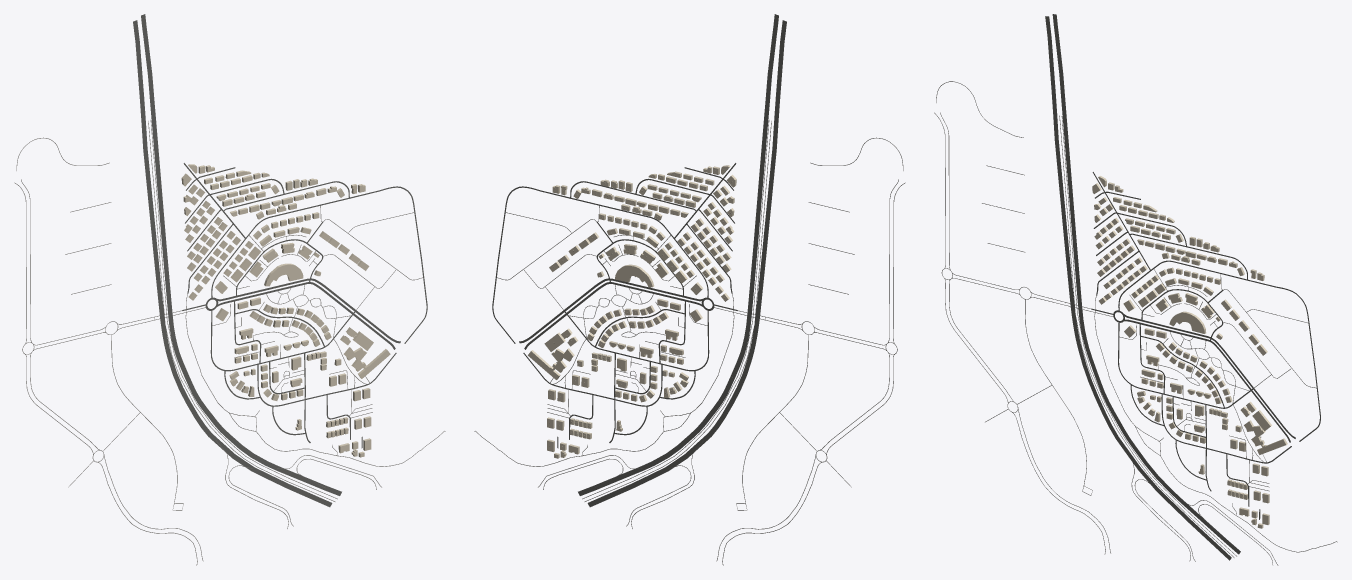
The model's file is historic-palestine-09_34_3513_3281.glb.
3 views of the same model, side by side, from view 1: azimuth 30°, elevation 25°; view 2: azimuth 150°, elevation 25°; view 3: azimuth 330°, elevation 25° (orthographic). The views are drawn at different scales.
Visible parts, largest first — view 1: Road 79.001, Road 79, Road שלדג, Building_.075; view 2: Road 79.001, Road 79, Road שלדג, Building_.075; view 3: Road 79.001, Road 79, Road שלדג, Building_.075, Road הרכבת הקלה 'נופית' בין חיפה לנ, Road הרכבת הקלה 'נופית' בין חיפה לנצר.
Boxes of the visible parts, x1,y1,x2,y2 form: Road 79.001: [133, 20, 332, 507]; Road 79: [141, 14, 341, 495]; Road שלדג: [211, 186, 427, 343]; Building_.075: [343, 347, 390, 378]; Road 79.001: [587, 20, 786, 507]; Road 79: [578, 14, 778, 495]; Road שלדג: [492, 186, 708, 343]; Building_.075: [528, 348, 574, 379]; Road 79.001: [1045, 16, 1231, 560]; Road 79: [1052, 14, 1240, 554]; Road שלדג: [1118, 260, 1320, 441]; Building_.075: [1244, 420, 1287, 454]; Road הרכבת הקלה 'נופית' בין חיפה לנ: [1059, 115, 1234, 557]; Road הרכבת הקלה 'נופית' בין חיפה לנצר: [1061, 116, 1236, 556].
Size of the model in its own units: 1178 by 1473 by 8.7.
